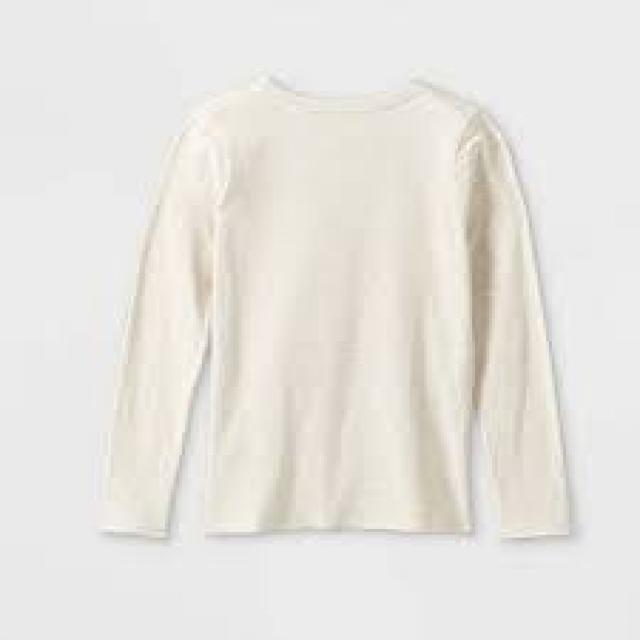plain: (86, 74, 574, 541)
